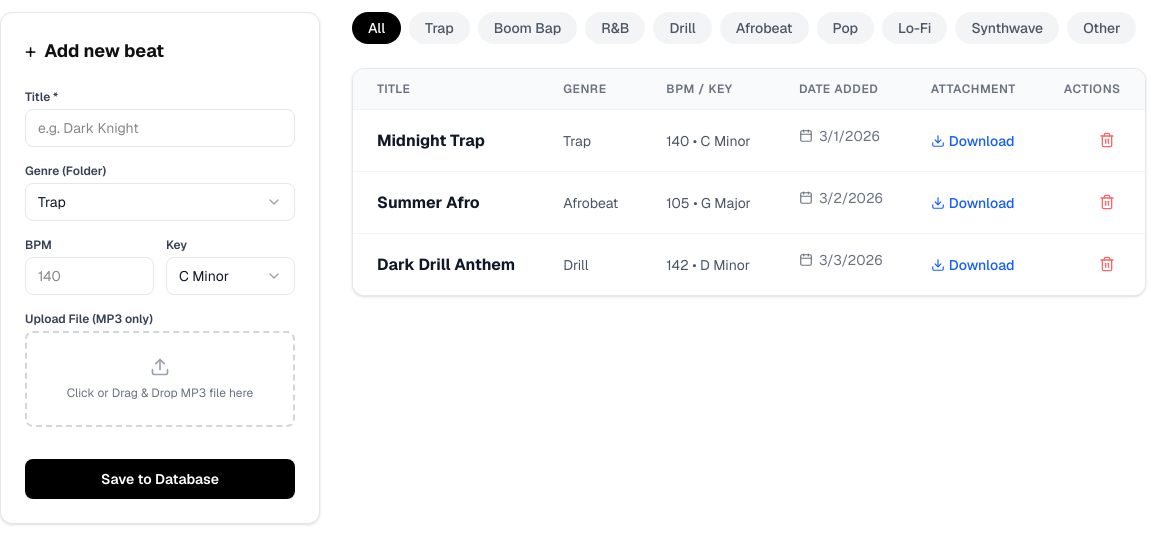
BityPage (/bity) › restores all beats when clicking "All" filter pill
What coordinates should you click on to do the following:
click the button "Afrobeat"
I would click on:
 (764, 28)
Its box is [720,12,809,44].
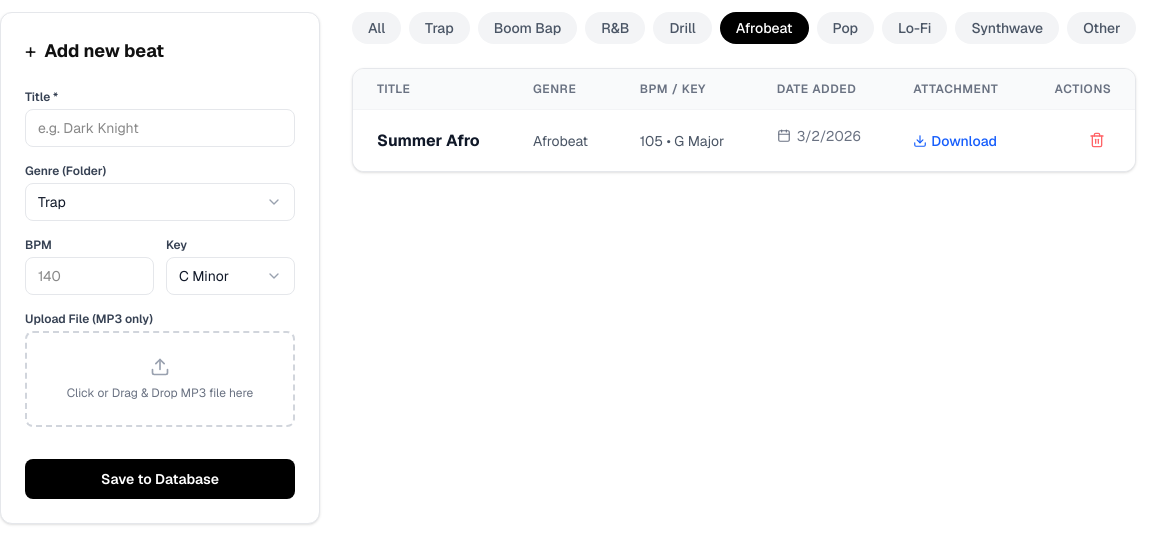
What coordinates should you click on to do the following:
click the button "All"
I would click on:
 (377, 28)
Its box is [352,12,401,44].
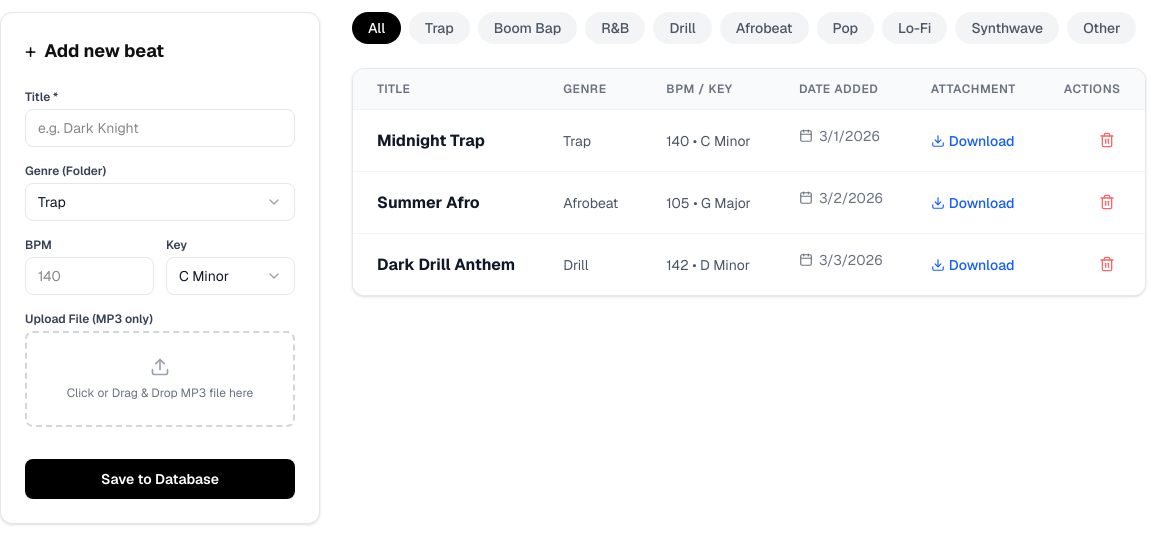
Expected: the text "Summer Afro" is shown, [353,172,539,234]
Result: the text "Midnight Trap" is shown at [353,110,539,172]
Result: the text "Dark Drill Anthem" is shown at [353,234,539,295]
